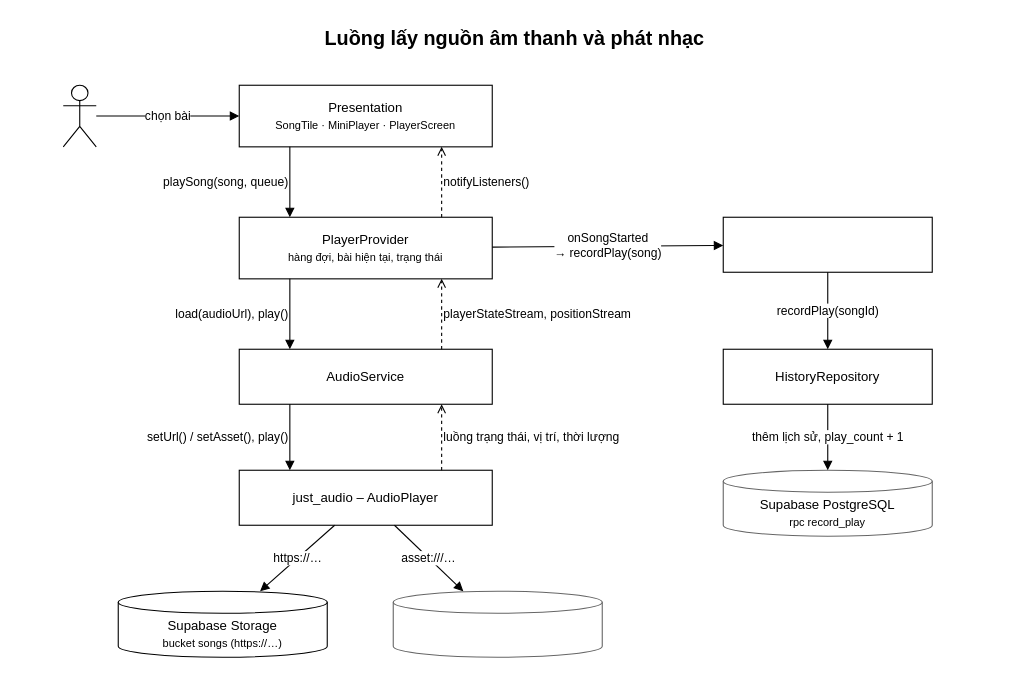
This 1027x677 diagram has some shape labels left out. Here are the shapes that lost their labels. From the top down, the centre of each, then its label:
At point (79, 115): "Người dùng".
At point (827, 244): "HistoryProvider".
At point (497, 623): "Tệp trong ứng dụng assets/audio (asset:///…)".
